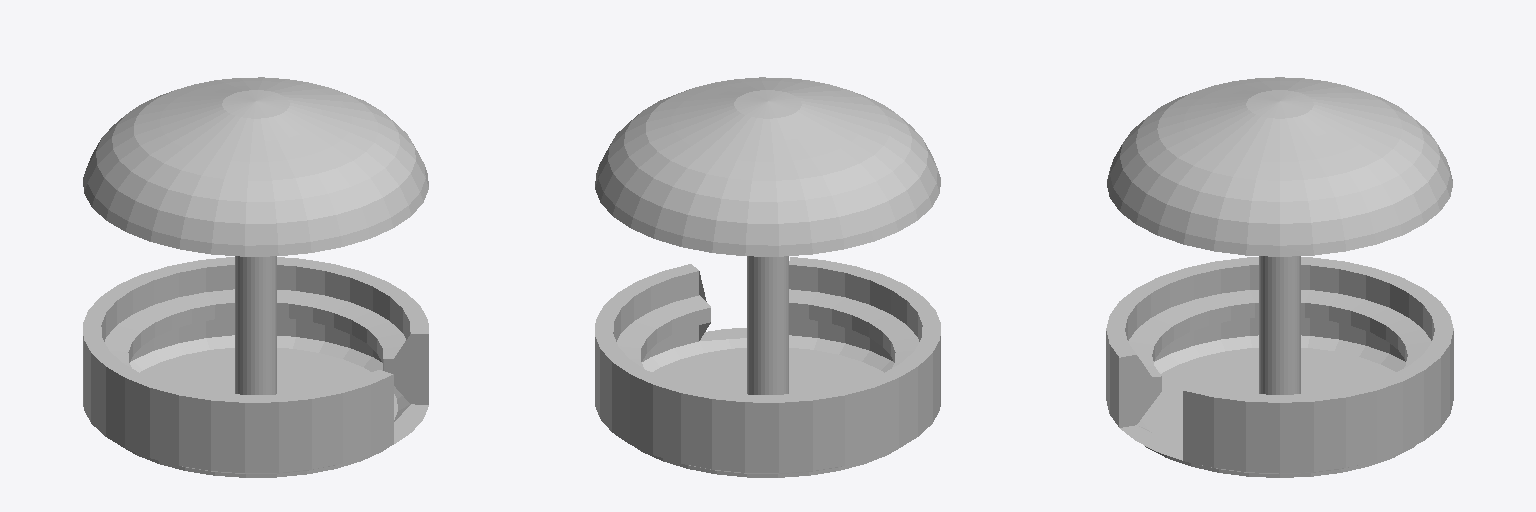
Rendered from canastitaJP.obj.
3 views of the same model, side by side, from view 1: azimuth 30°, elevation 25°; view 2: azimuth 150°, elevation 25°; view 3: azimuth 270°, elevation 25° (orthographic).
Parts seen in each view (by area): view 1: Circle, Sphere, Cylinder; view 2: Circle, Sphere, Cylinder; view 3: Circle, Sphere, Cylinder.
Boxes of the visible parts, x1,y1,x2,y2 form: Circle: [83, 257, 428, 477]; Sphere: [83, 77, 428, 256]; Cylinder: [235, 256, 276, 394]; Circle: [595, 257, 940, 477]; Sphere: [595, 77, 940, 256]; Cylinder: [747, 256, 788, 394]; Circle: [1106, 257, 1453, 477]; Sphere: [1107, 77, 1452, 256]; Cylinder: [1259, 256, 1300, 394].
Bounding box in the file's own units: 2.44 × 2.4 × 2.44.